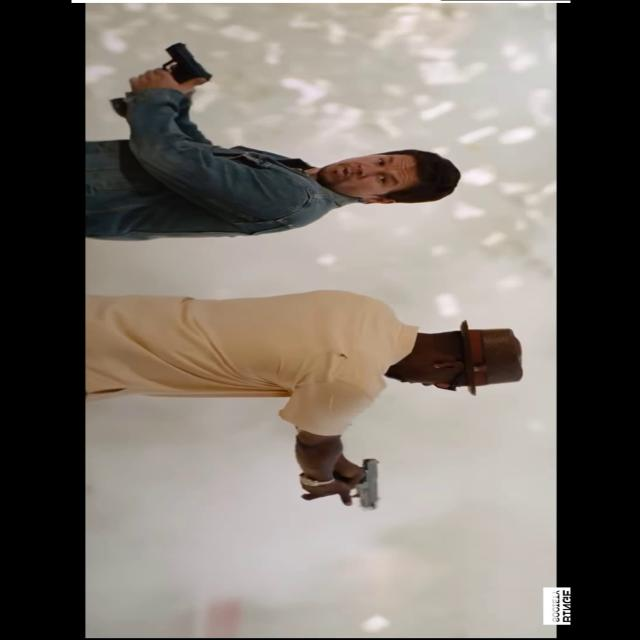weapons: (108, 40, 230, 109), (294, 446, 396, 515)
